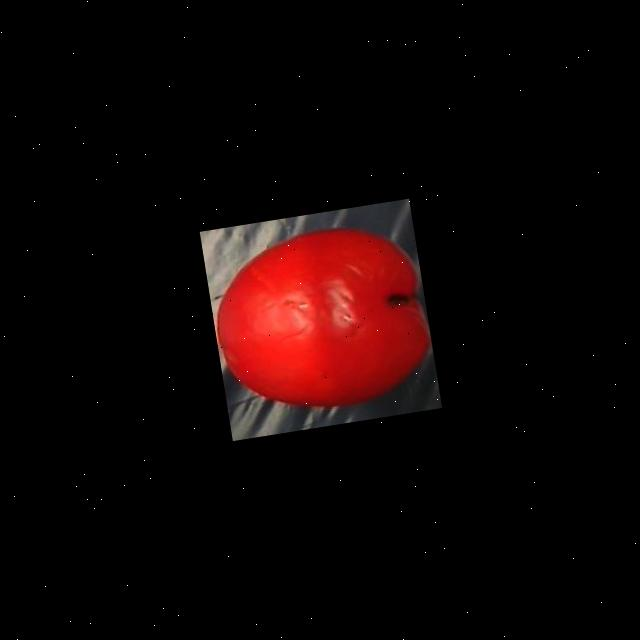tomato: (202, 215, 439, 430)
